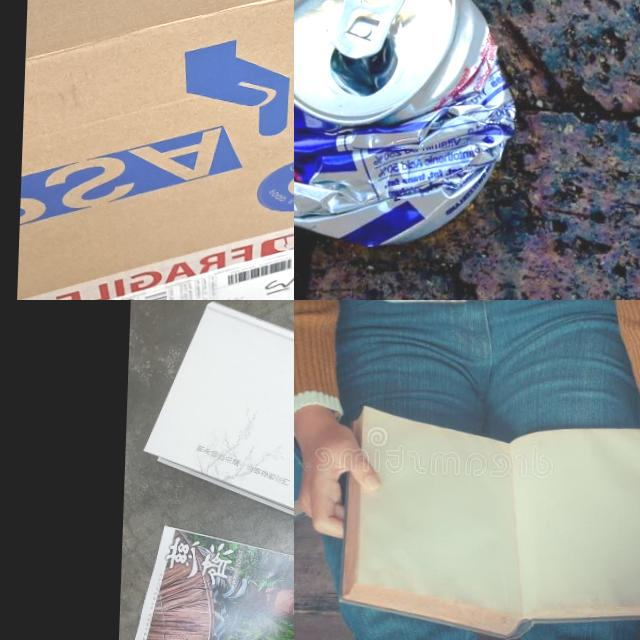lata: (294, 0, 523, 252), (330, 0, 412, 61)
papel: (333, 402, 640, 640), (139, 300, 294, 538), (115, 528, 294, 640)
papelão: (13, 0, 294, 300)
